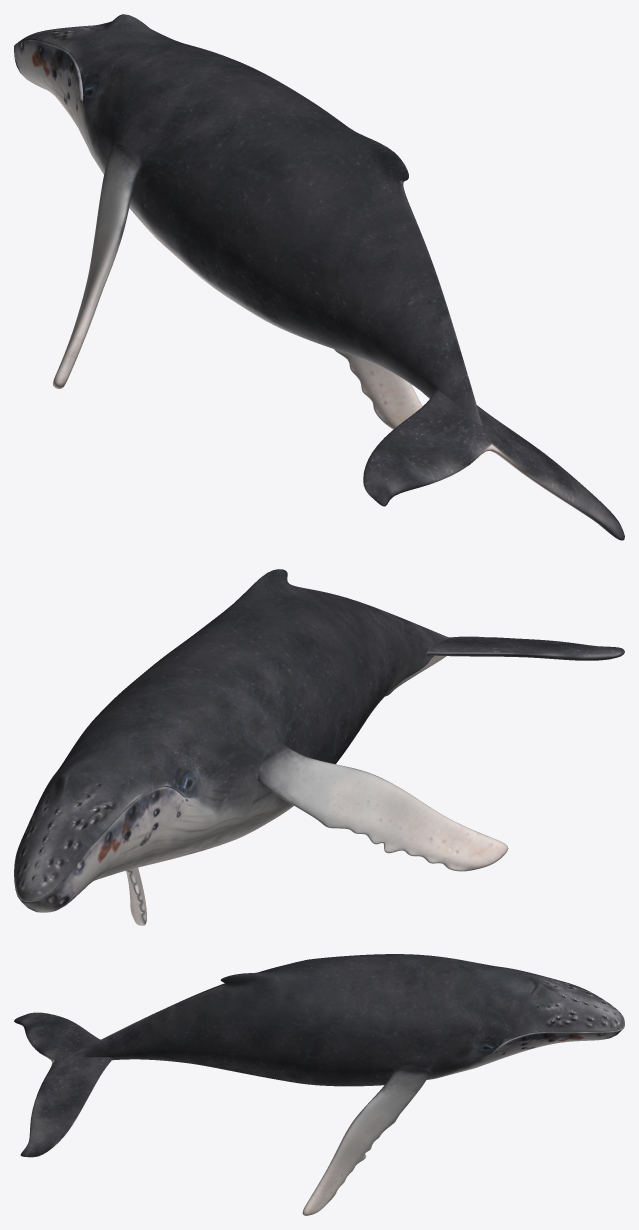
Rendered from whale_1.glb.
3 views of the same model, one above another, from view 1: azimuth 30°, elevation 25°; view 2: azimuth 150°, elevation 25°; view 3: azimuth 270°, elevation 25° (orthographic). The views are drawn at different scales.
Parts seen in each view (by area): view 1: 10054_Whale_v2_L3; view 2: 10054_Whale_v2_L3; view 3: 10054_Whale_v2_L3.
Part boxes in pixels (x1,y1,x2,y2): 10054_Whale_v2_L3: (14, 14, 624, 540); 10054_Whale_v2_L3: (14, 569, 624, 925); 10054_Whale_v2_L3: (14, 954, 624, 1215).
Bounding box in the file's own units: 348 × 298 × 763.
1 material, 1 textured.
